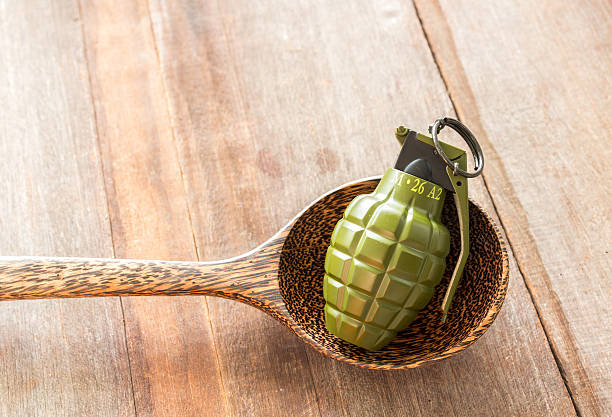e1: (322, 112, 484, 354)
